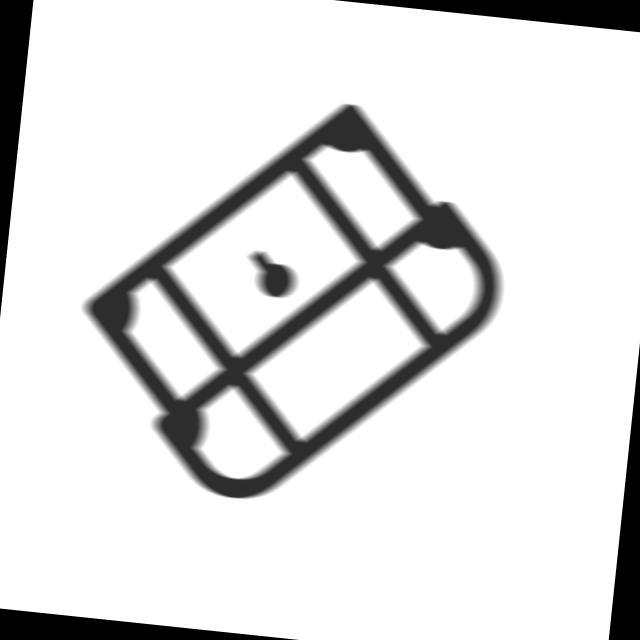treasure_box: (52, 70, 532, 534)
